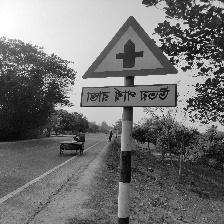Crossroad: (78, 14, 177, 111)
